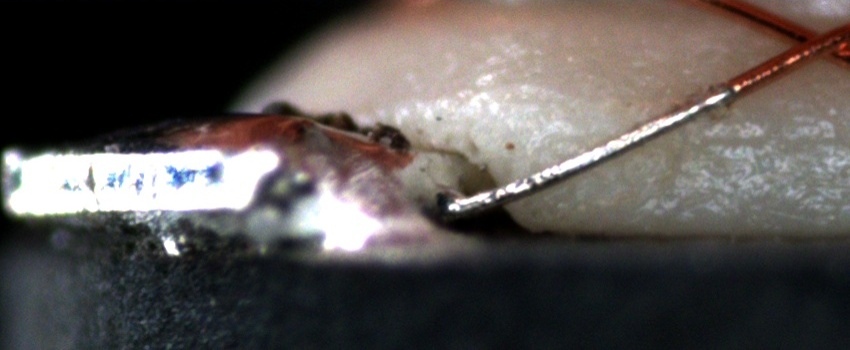CL: (771, 15, 846, 70)
DL: (679, 109, 850, 173)
TS: (449, 81, 736, 216)
